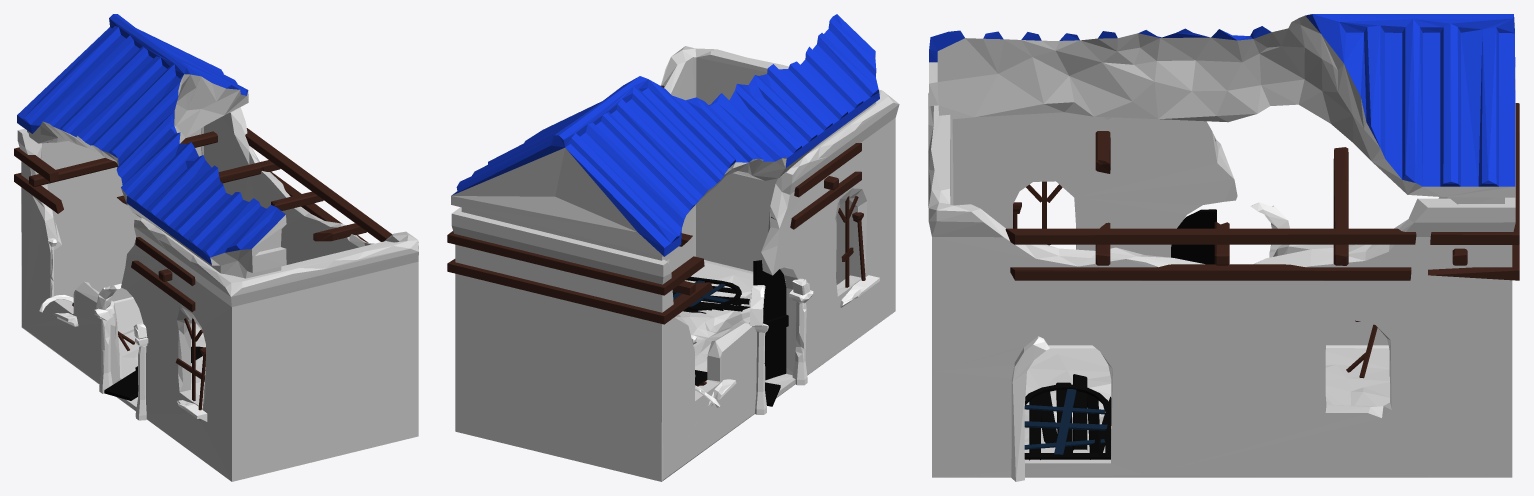
The model's file is civilian_house_ruin_e.FBX.
3 views of the same model, side by side, from view 1: azimuth 30°, elevation 25°; view 2: azimuth 150°, elevation 25°; view 3: azimuth 270°, elevation 25° (orthographic). The views are drawn at different scales.
Parts seen in each view (by area): view 1: civilian_house_ruin_e; view 2: civilian_house_ruin_e; view 3: civilian_house_ruin_e.
Part boxes in pixels (x1,y1,x2,y2): civilian_house_ruin_e: (14,14,418,481); civilian_house_ruin_e: (447,14,899,481); civilian_house_ruin_e: (928,14,1519,481).
Bounding box in the file's own units: 583 × 770 × 1019.
